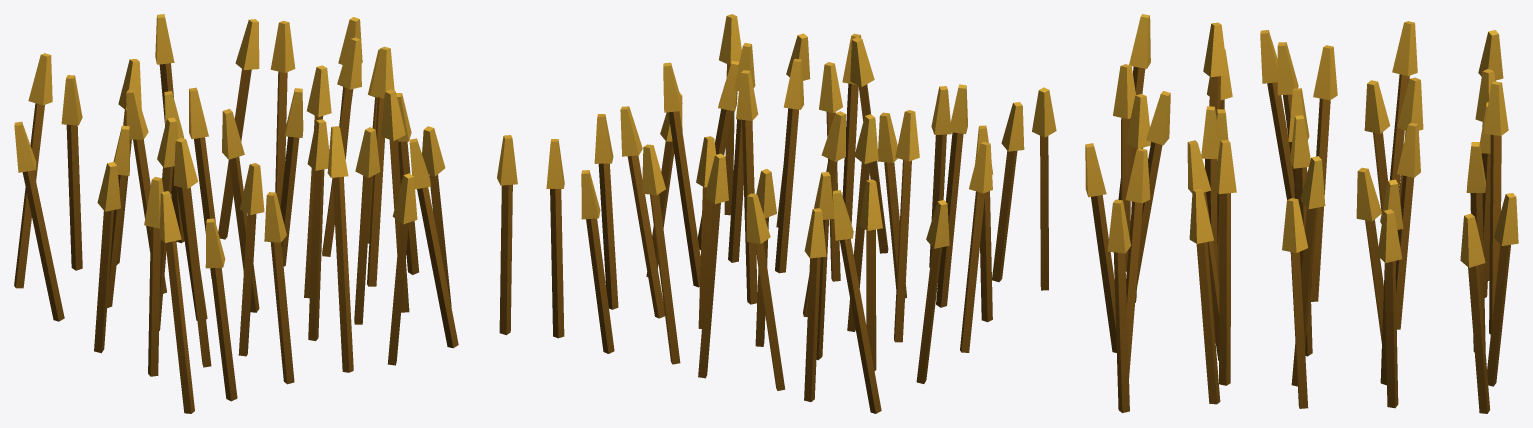
Rendered from wheat.glb.
The picture shows the model from 3 angles, left to right: view 1: azimuth 30°, elevation 25°; view 2: azimuth 150°, elevation 25°; view 3: azimuth 270°, elevation 25°; orthographic projection. The views are drawn at different scales.
Parts seen in each view (by area): view 1: wheat; view 2: wheat; view 3: wheat.
Boxes of the visible parts, x1=… form: wheat: x1=14, y1=14, x2=517, y2=413; wheat: x1=546, y1=14, x2=1056, y2=413; wheat: x1=1085, y1=14, x2=1518, y2=413.
Bounding box in the file's own units: 0.9714 × 0.5679 × 0.9157.
